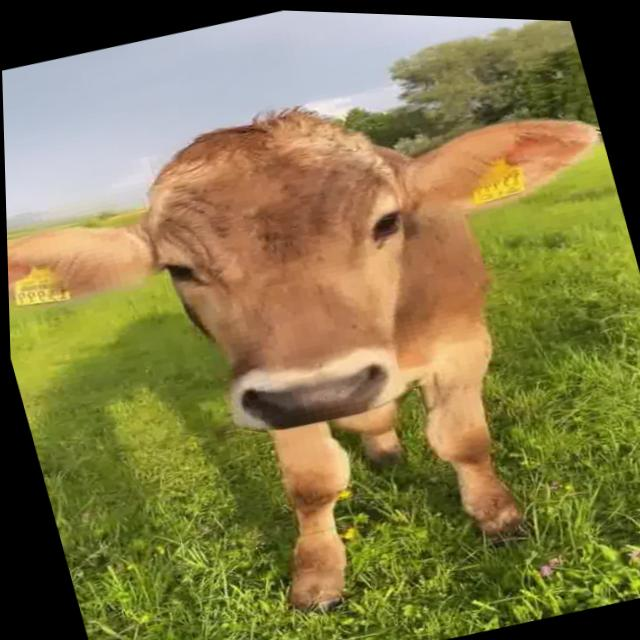cowFace: (0, 20, 640, 488)
